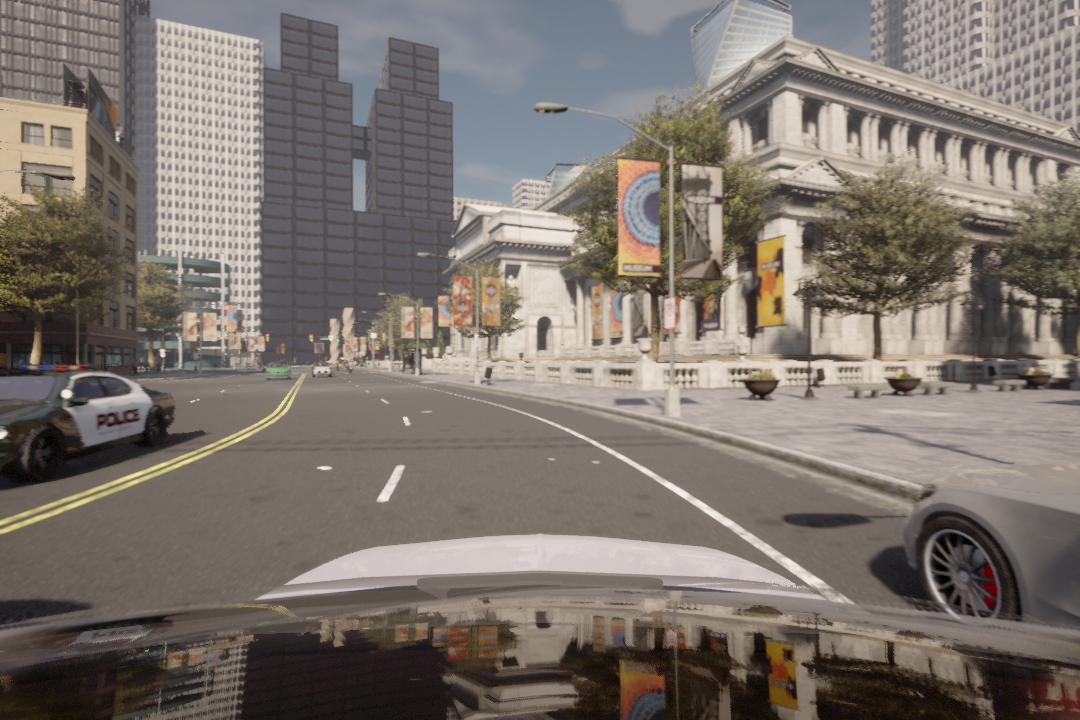TrafficSign_nstop: (663, 299, 675, 330)
